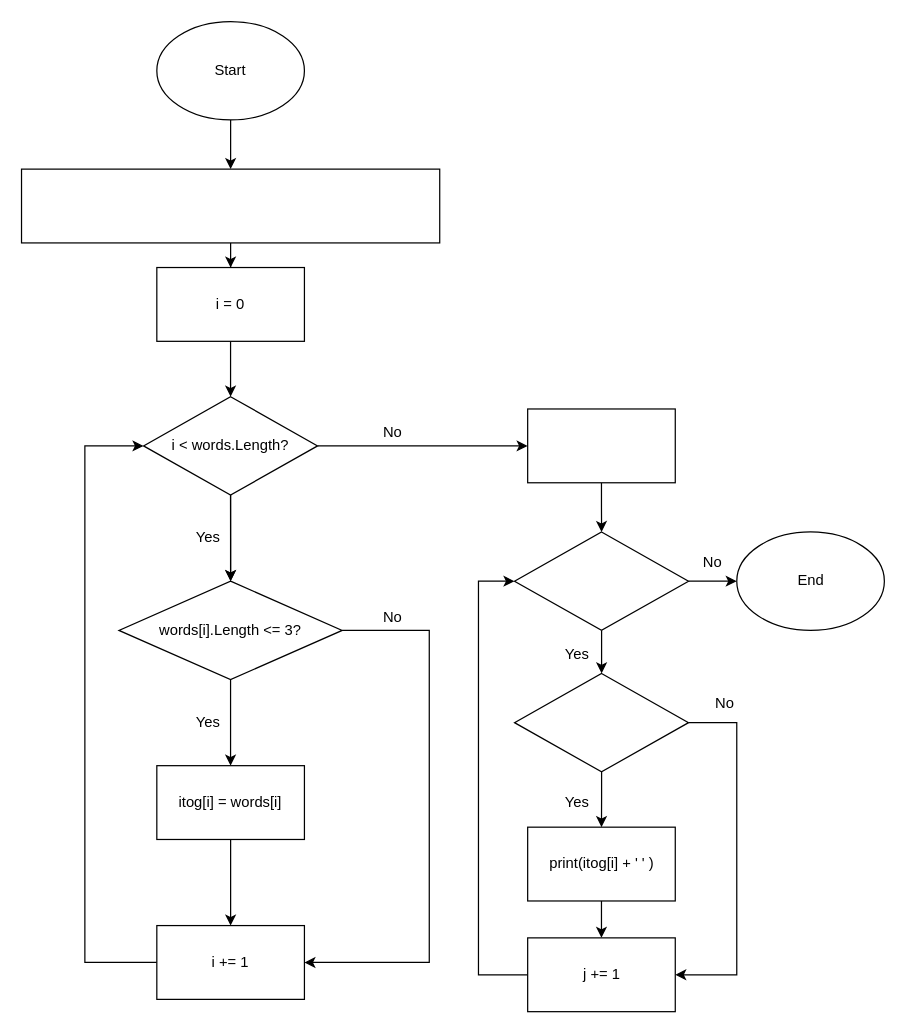
This 907x1033 diagram has some shape labels left out. The centre of each missing label's shape, as x and y in pixels:
itog[j] != null?: (601,722)
j < words.Length?: (601,580)
j = 0: (600,445)
words = {"hello", "2", "world", ":-)"} itog = new string[words.Length]: (230,205)
